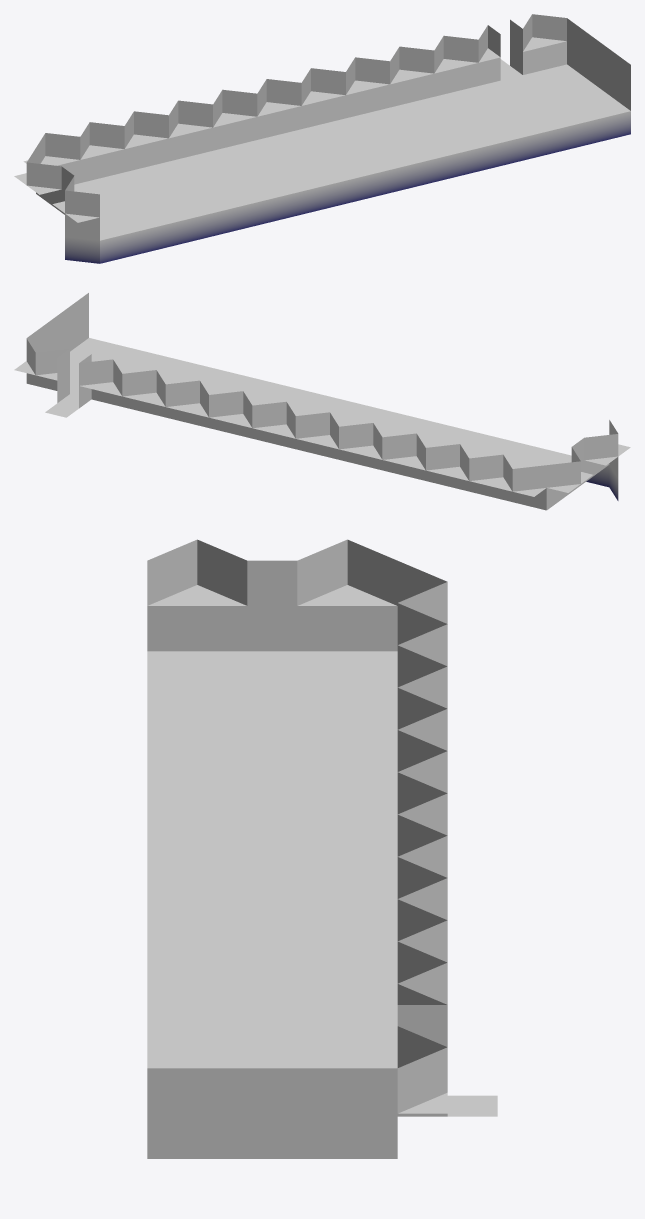
The model's file is oddcare5.obj.
The picture shows the model from 3 angles, top to bottom: view 1: azimuth 30°, elevation 25°; view 2: azimuth 150°, elevation 25°; view 3: azimuth 270°, elevation 25°; orthographic projection. The views are drawn at different scales.
Visible parts, largest first — view 1: Cube; view 2: Cube; view 3: Cube.
Part boxes in pixels (x1,y1,x2,y2): Cube: (14, 14, 630, 263); Cube: (14, 293, 630, 510); Cube: (147, 539, 497, 1158).
Size of the model in its own units: 25 by 3 by 7.
